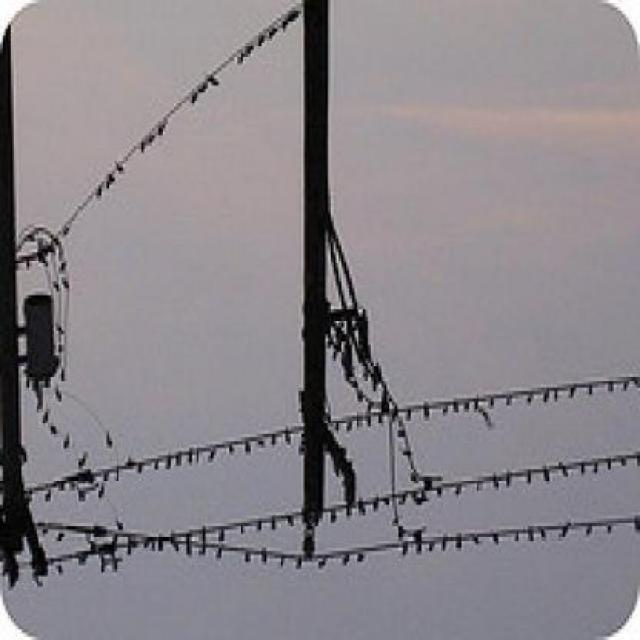pole: (276, 0, 356, 572), (0, 1, 58, 581)
